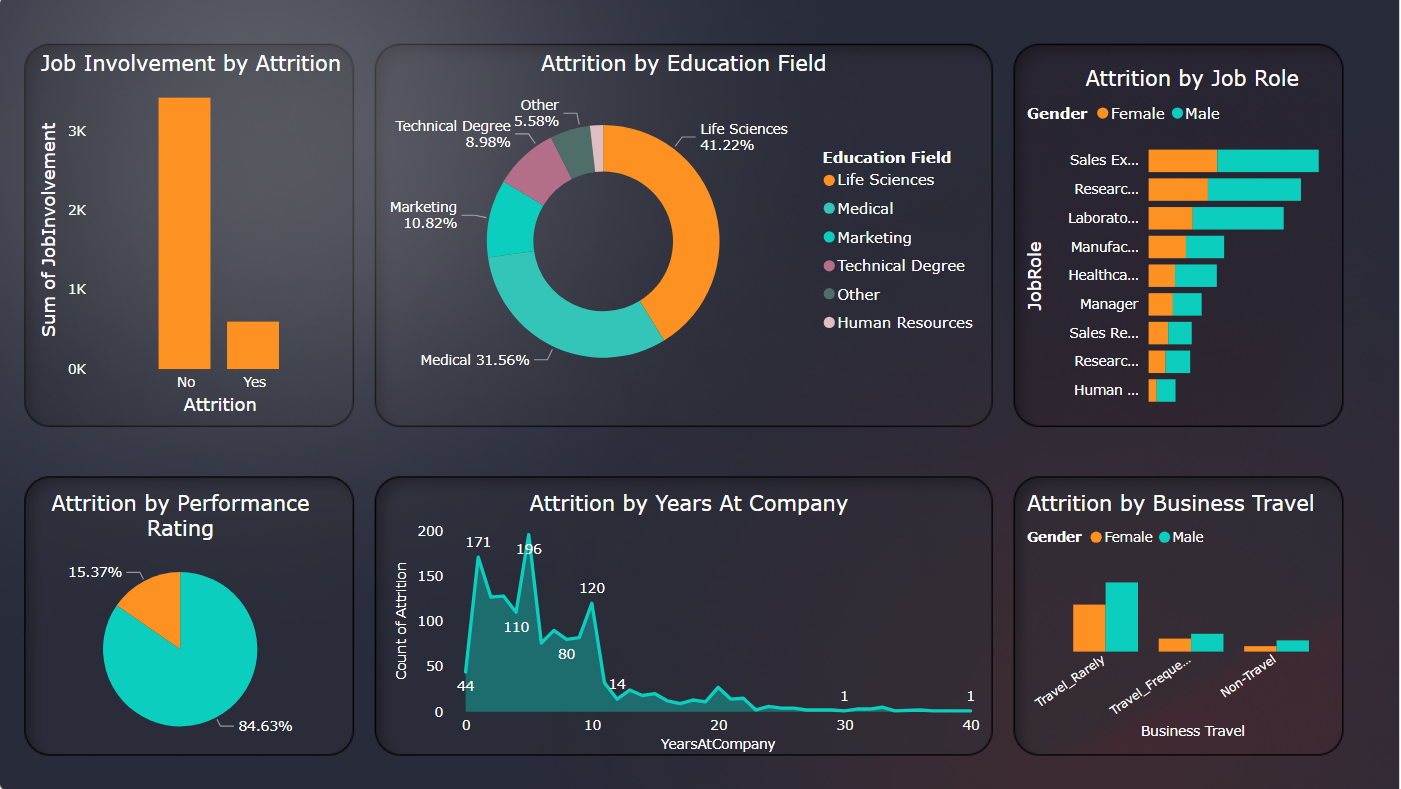

What the dashboard file says about the page in this screenshot:
{"tool":"powerbi","page":{"name":"Attrition","canvas":[1280,720],"ordinal":1},"visuals":[{"type":"image","box":[0,0,1280.8,719.2],"z":0},{"type":"areaChart","title":"Attrition by Years At Company","fields":{"Category":["HR-Employee-Attrition.YearsAtCompany"],"Y":["CountNonNull(HR-Employee-Attrition.Attrition)"]},"box":[373.8,445,531.2,237.5],"z":1000},{"type":"clusteredColumnChart","title":" Attrition by Business Travel ","fields":{"Category":["HR-Employee-Attrition.BusinessTravel"],"Y":["CountNonNull(HR-Employee-Attrition.Attrition)"],"Series":["HR-Employee-Attrition.Gender"]},"box":[934.2,445.2,294.5,226],"z":2000},{"type":"donutChart","title":" Attrition by Education Field","fields":{"Category":["HR-Employee-Attrition.EducationField"],"Y":["CountNonNull(HR-Employee-Attrition.Attrition)"]},"box":[363,54.8,542.5,317.8],"z":3000},{"type":"barChart","title":"Attrition by Job Role","fields":{"Category":["HR-Employee-Attrition.JobRole"],"Y":["CountNonNull(HR-Employee-Attrition.Attrition)"],"Series":["HR-Employee-Attrition.Gender"]},"box":[934.7,68,304,314.7],"z":4000},{"type":"pieChart","title":" Attrition by Performance Rating","fields":{"Y":["CountNonNull(HR-Employee-Attrition.Attrition)"],"Category":["HR-Employee-Attrition.PerformanceRating"]},"box":[38.2,445.6,298.5,238.2],"z":5000},{"type":"columnChart","title":"Job Involvement by Attrition","fields":{"Category":["HR-Employee-Attrition.Attrition"],"Y":["Sum(HR-Employee-Attrition.JobInvolvement)"]},"box":[57.5,54.8,279.5,328.8],"z":6000}]}

Visuals, with their boxes in screenshot pixels (x1, y1, x2, y2), scaled from the page's 1280x720 canvas onto the 1401x789 screenshot:
image: region(0, 0, 1400, 788)
"Attrition by Years At Company" areaChart: region(409, 488, 991, 748)
" Attrition by Business Travel " clusteredColumnChart: region(1023, 488, 1345, 736)
" Attrition by Education Field" donutChart: region(397, 60, 991, 408)
"Attrition by Job Role" barChart: region(1023, 75, 1356, 419)
" Attrition by Performance Rating" pieChart: region(42, 488, 369, 749)
"Job Involvement by Attrition" columnChart: region(63, 60, 369, 420)
